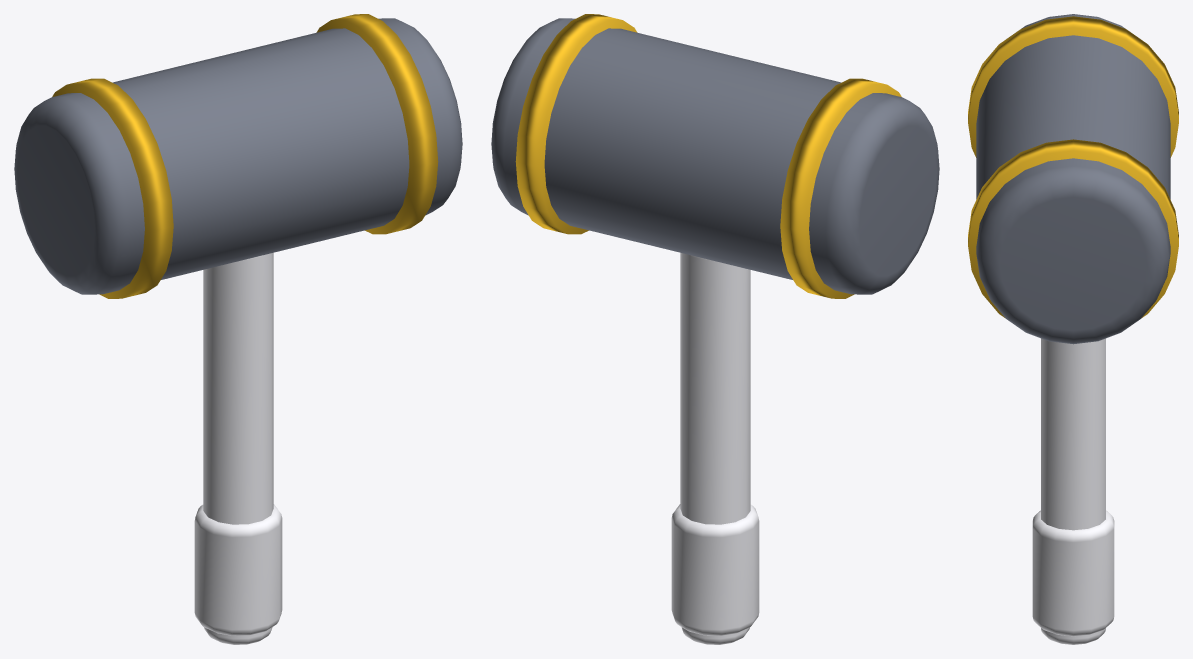
File: ParasolPlummetHammer.obj
3 renders of one model, left to right at view 1: azimuth 30°, elevation 25°; view 2: azimuth 150°, elevation 25°; view 3: azimuth 270°, elevation 25°, orthographic. The views are drawn at different scales.
Visible parts, largest first — view 1: Head, Handle, Band; view 2: Head, Handle, Band; view 3: Head, Handle, Band.
Boxes of the visible parts, box(x1,y1,x2,y2) form: Head: box(14, 18, 462, 294); Handle: box(194, 252, 282, 644); Band: box(52, 14, 438, 298); Head: box(491, 18, 939, 294); Handle: box(671, 252, 759, 644); Band: box(515, 14, 901, 298); Head: box(976, 14, 1170, 344); Handle: box(1032, 338, 1114, 644); Band: box(968, 16, 1178, 317).
Size of the model in its own units: 2.4 by 3.63 by 1.26.
